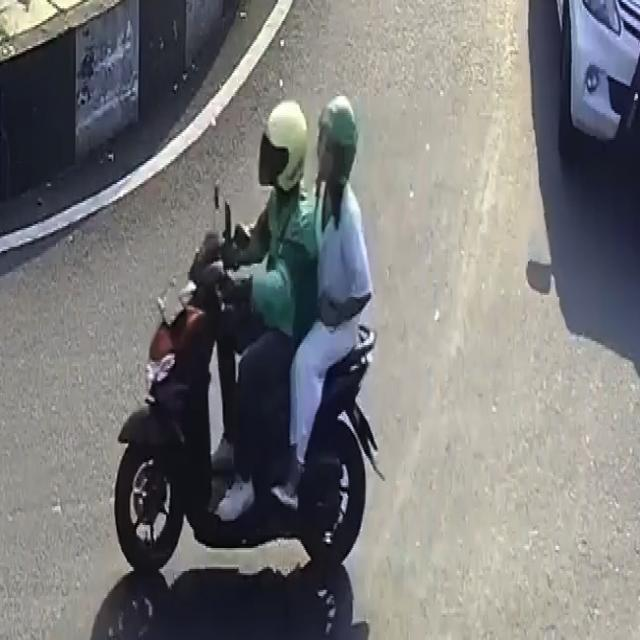helm: (256, 95, 310, 195), (315, 92, 363, 198)
motor: (110, 80, 391, 600)
spion: (219, 220, 252, 255), (210, 181, 225, 225)
